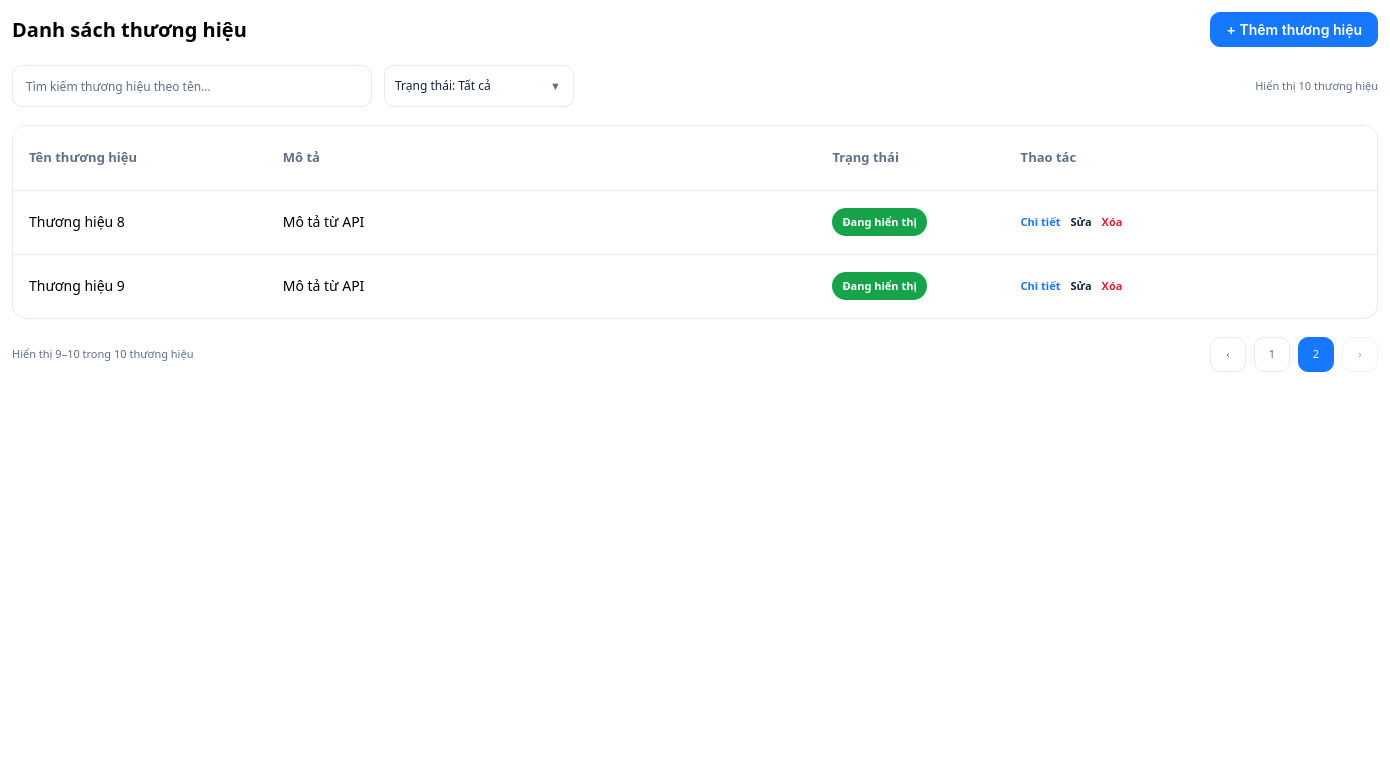
Test: pagination counts the filtered brand array and clamps deep links safely
The width and height of the screenshot is (1390, 780).
Expected: the text "Hiển thị 9–10 trong 10 thương hiệu" is shown, [12, 346, 194, 363]
Expected: the number of rows is 3, [13, 126, 1377, 190]; [13, 190, 1377, 254]; [13, 254, 1377, 318]
Click the button named "Trang trước".
click(1228, 354)  # box [1210, 337, 1246, 372]
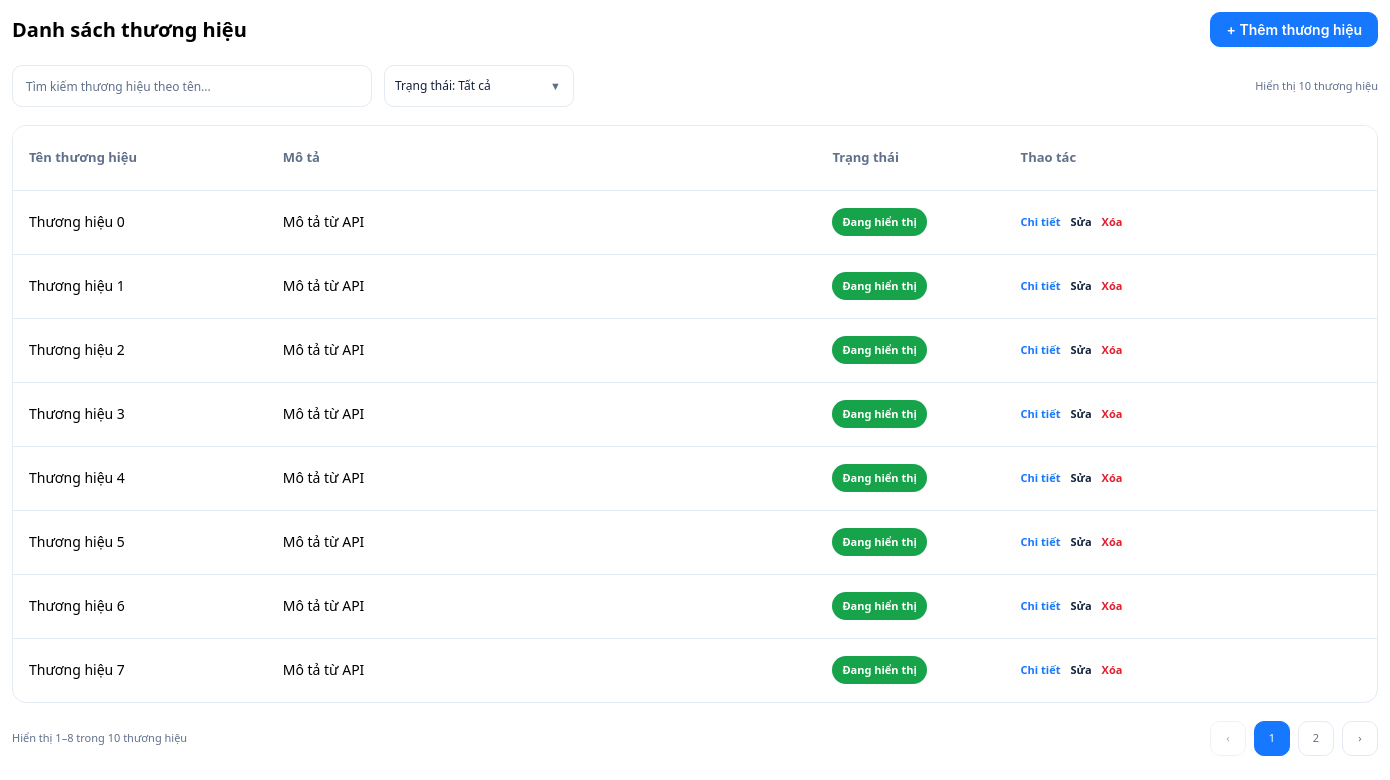
Result: the text "Hiển thị 1–8 trong 10 thương hiệu" is shown at [12, 730, 187, 747]
Result: the number of rows is 9
